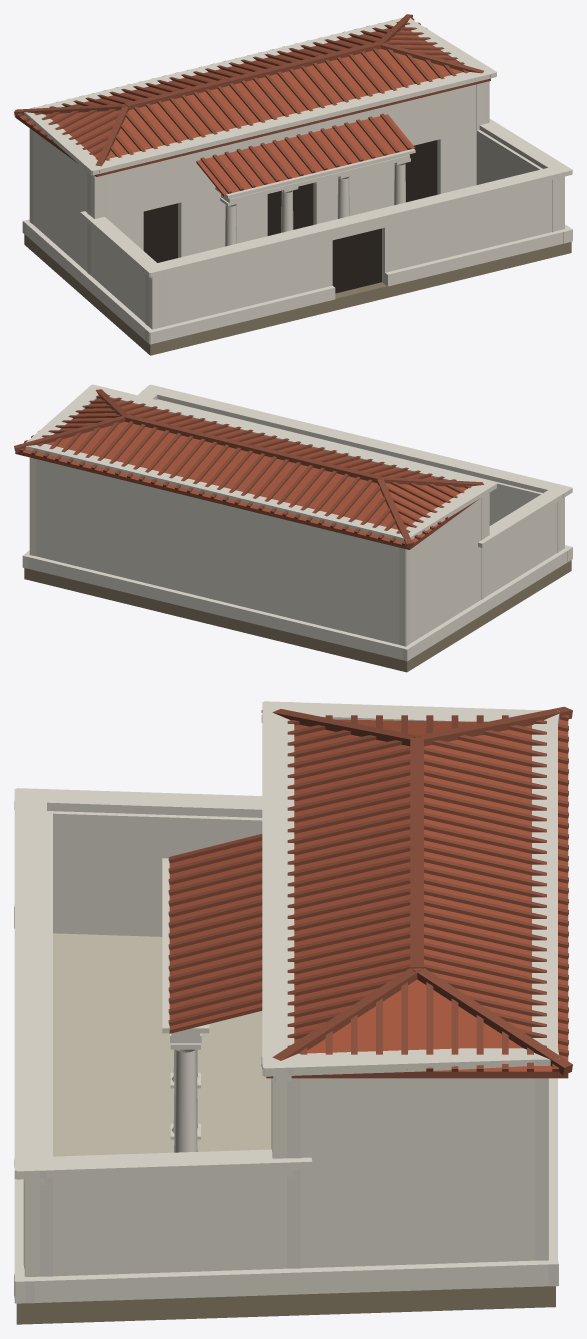
The model's file is rome_regia.glb.
The picture shows the model from 3 angles, top to bottom: view 1: azimuth 30°, elevation 25°; view 2: azimuth 150°, elevation 25°; view 3: azimuth 270°, elevation 25°; orthographic projection. The views are drawn at different scales.
Parts seen in each view (by area): view 1: rome_regia; view 2: rome_regia; view 3: rome_regia.
Boxes of the visible parts, x1,y1,x2,y2 form: rome_regia: (14,14,572,355); rome_regia: (14,384,572,672); rome_regia: (14,701,572,1324).
Size of the model in its own units: 22.54 by 7.71 by 13.89.
